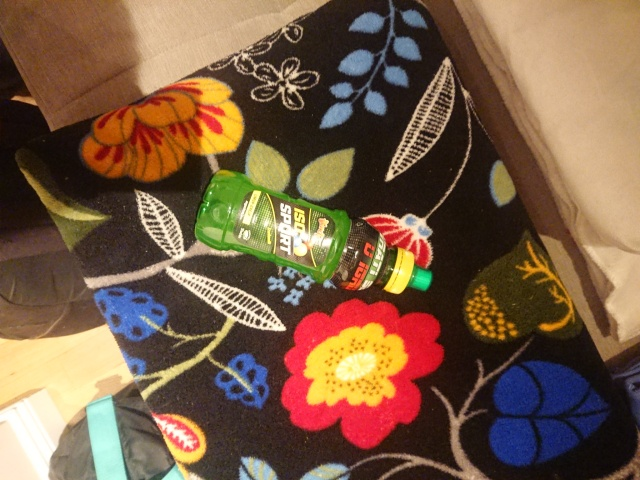Vindi Iso Sport Lemon-Grapefruit 500mL: (191, 167, 435, 297)
